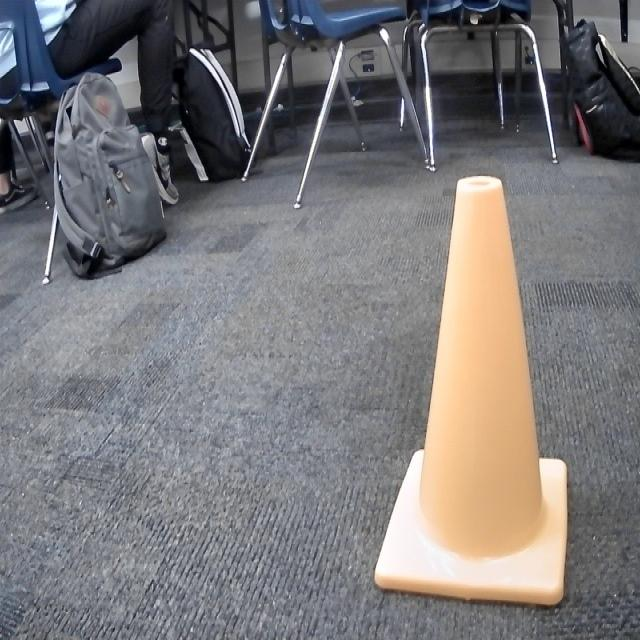cone: (373, 172, 568, 610)
